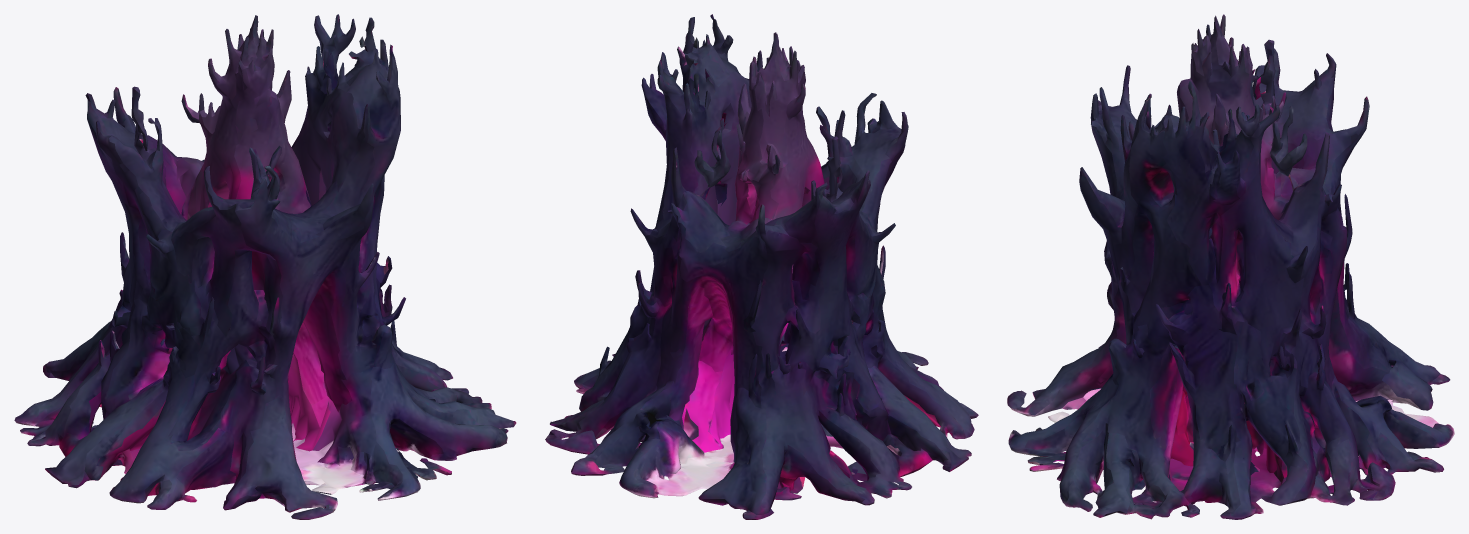
File: root-northwest-generated-2026-04-19T17-13-41-911Z.medium.glb
3 renders of one model, left to right at view 1: azimuth 30°, elevation 25°; view 2: azimuth 150°, elevation 25°; view 3: azimuth 270°, elevation 25°, orthographic. The views are drawn at different scales.
Visible parts, largest first — view 1: temp_mesh.ply; view 2: temp_mesh.ply; view 3: temp_mesh.ply.
Part boxes in pixels (box(x1,y1,x2,y2)): temp_mesh.ply: box(14, 14, 516, 519); temp_mesh.ply: box(545, 14, 978, 519); temp_mesh.ply: box(1007, 14, 1454, 519).
Size of the model in its own units: 1.97 by 1.94 by 1.93.
1 material, 1 textured.
